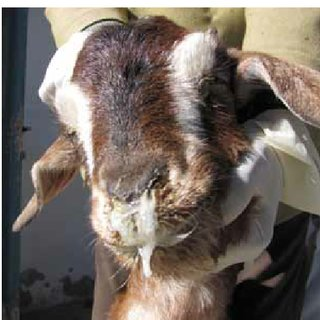ppr: (94, 190, 204, 276)
